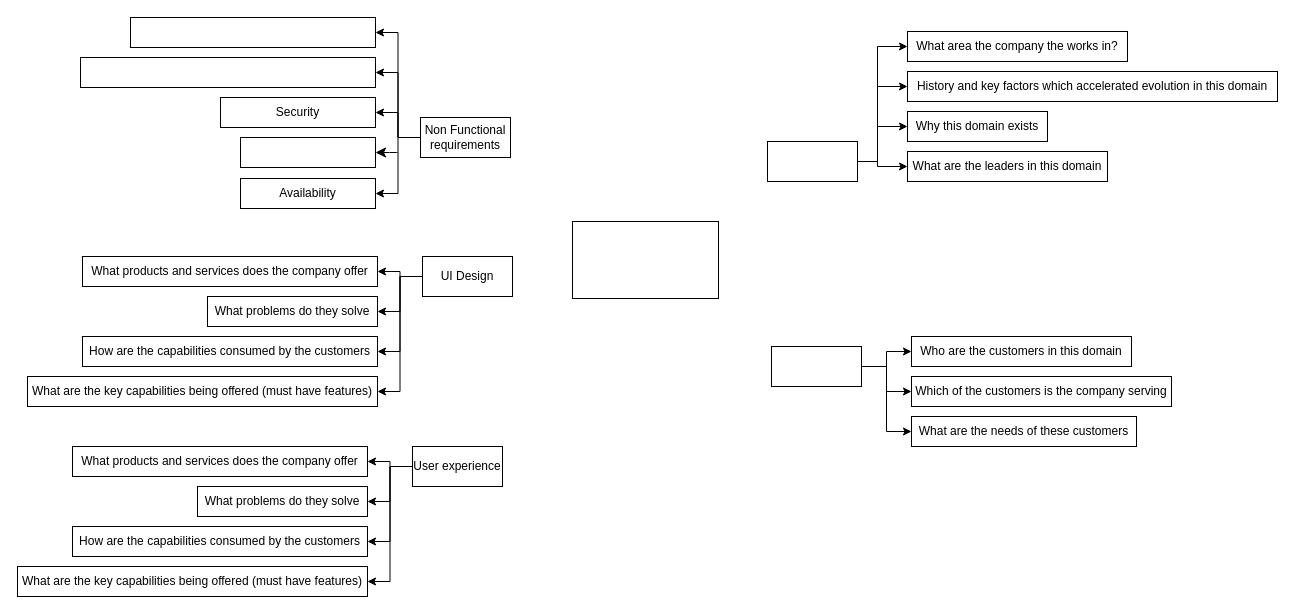
Some shapes in this 1295 by 614 pixel diagram are drawn without their labels. Each missing label, with the centre of its shape:
Functional requirements: [816,366]
Monitoring and alerts: [308,152]
Reliability: [228,72]
Scalability: [253,32]
Solutioning of the new platform of WealthSpring: [645,259]
Understand: [812,161]
